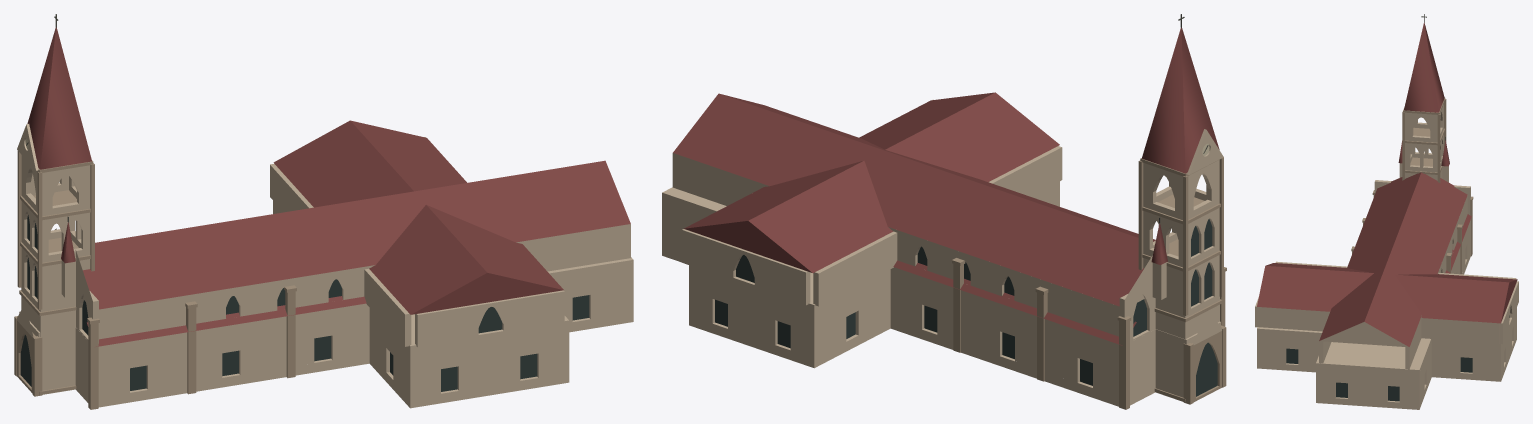
File: iglesia-merced-san-jose-far.glb
3 views of the same model, side by side, from view 1: azimuth 30°, elevation 25°; view 2: azimuth 150°, elevation 25°; view 3: azimuth 270°, elevation 25° (orthographic). The views are drawn at different scales.
Parts seen in each view (by area): view 1: iglesia-merced-san-jose-0-roof, iglesia-merced-san-jose-0-stone, iglesia-merced-san-jose-0-trim, iglesia-merced-san-jose-0-glass; view 2: iglesia-merced-san-jose-0-roof, iglesia-merced-san-jose-0-stone, iglesia-merced-san-jose-0-trim, iglesia-merced-san-jose-0-glass; view 3: iglesia-merced-san-jose-0-roof, iglesia-merced-san-jose-0-stone, iglesia-merced-san-jose-0-trim, iglesia-merced-san-jose-0-glass.
Boxes of the visible parts, x1,y1,x2,y2 form: iglesia-merced-san-jose-0-roof: [27, 27, 630, 346]; iglesia-merced-san-jose-0-stone: [17, 124, 633, 408]; iglesia-merced-san-jose-0-trim: [14, 151, 296, 409]; iglesia-merced-san-jose-0-glass: [20, 215, 589, 391]; iglesia-merced-san-jose-0-roof: [673, 27, 1219, 345]; iglesia-merced-san-jose-0-stone: [662, 99, 1223, 406]; iglesia-merced-san-jose-0-trim: [952, 157, 1226, 409]; iglesia-merced-san-jose-0-glass: [715, 219, 1217, 396]; iglesia-merced-san-jose-0-roof: [1257, 22, 1517, 346]; iglesia-merced-san-jose-0-stone: [1255, 104, 1518, 409]; iglesia-merced-san-jose-0-trim: [1351, 98, 1473, 274]; iglesia-merced-san-jose-0-glass: [1286, 315, 1509, 401].
Size of the model in its own units: 65.48 by 41.8 by 42.58.
